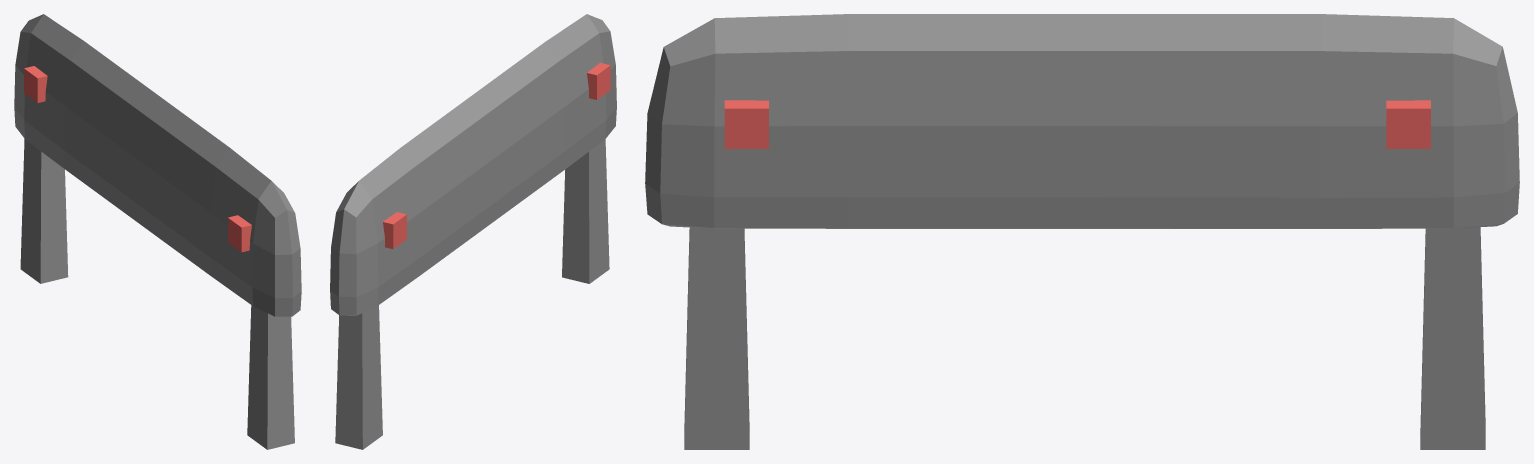
File: roadFence.fbx
3 views of the same model, side by side, from view 1: azimuth 30°, elevation 25°; view 2: azimuth 150°, elevation 25°; view 3: azimuth 270°, elevation 25° (orthographic). The views are drawn at different scales.
Visible parts, largest first — view 1: Base, Support.001, Support, Red, Red.001; view 2: Base, Support, Support.001, Red, Red.001; view 3: Base, Support, Support.001, Red, Red.001.
Part boxes in pixels (box(x1,y1,x2,y2)): Base: box(14, 14, 301, 316); Support.001: box(247, 305, 294, 449); Support: box(20, 139, 68, 283); Red: box(228, 215, 251, 252); Red.001: box(24, 66, 47, 102); Base: box(330, 14, 616, 315); Support: box(335, 305, 382, 449); Support.001: box(562, 139, 609, 283); Red: box(587, 63, 610, 99); Red.001: box(383, 212, 406, 248); Base: box(645, 14, 1519, 228); Support: box(1420, 227, 1485, 449); Support.001: box(684, 227, 749, 449); Red: box(724, 100, 768, 148); Red.001: box(1386, 100, 1430, 148).
Bounding box in the file's own units: 42.71 × 199 × 371.
